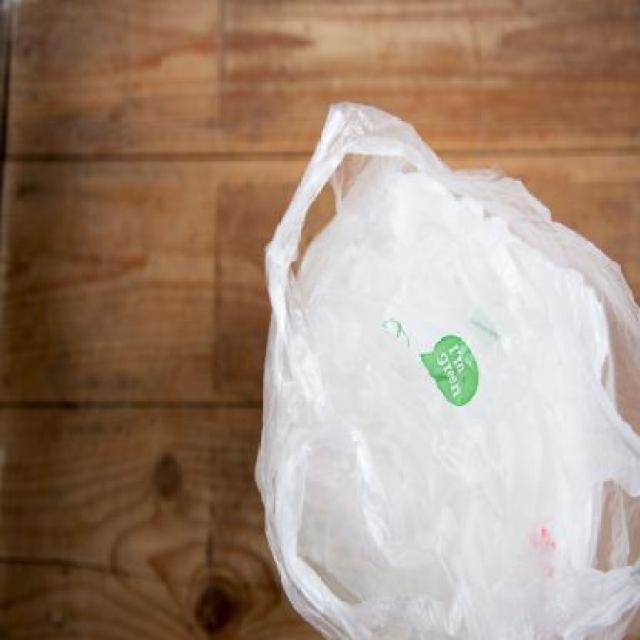plastic bag: (252, 80, 640, 639)
